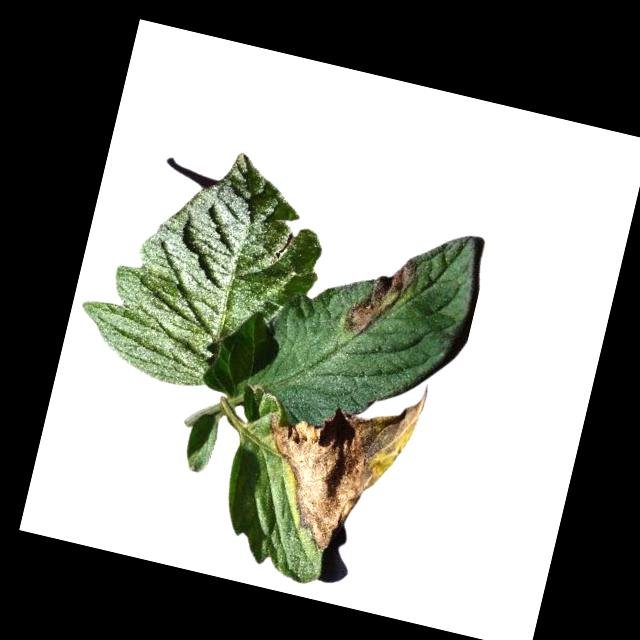Late_blight: (242, 352, 432, 568), (341, 250, 420, 347)
healthy: (70, 127, 345, 412)
